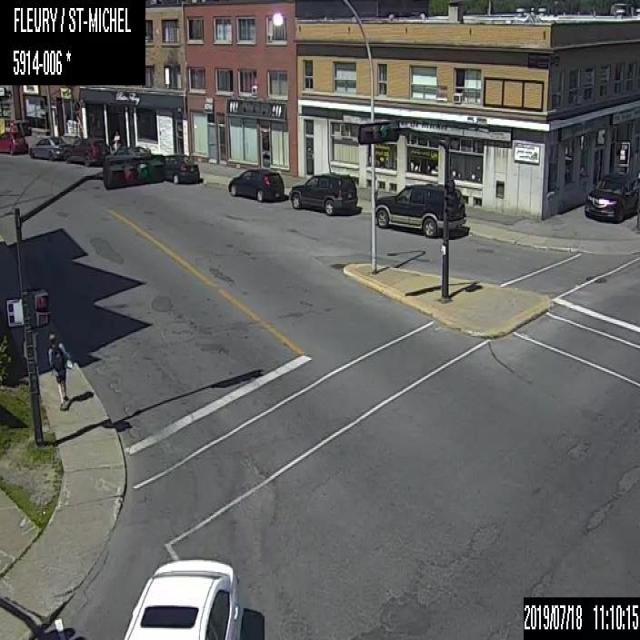pedestrian: (45, 330, 73, 412), (112, 130, 120, 148)
vehicle: (122, 553, 243, 639), (376, 180, 469, 236), (288, 169, 357, 216), (582, 167, 639, 222), (227, 164, 285, 201), (66, 133, 110, 168), (155, 149, 200, 183), (102, 142, 151, 170), (28, 133, 71, 162), (0, 126, 29, 158)
